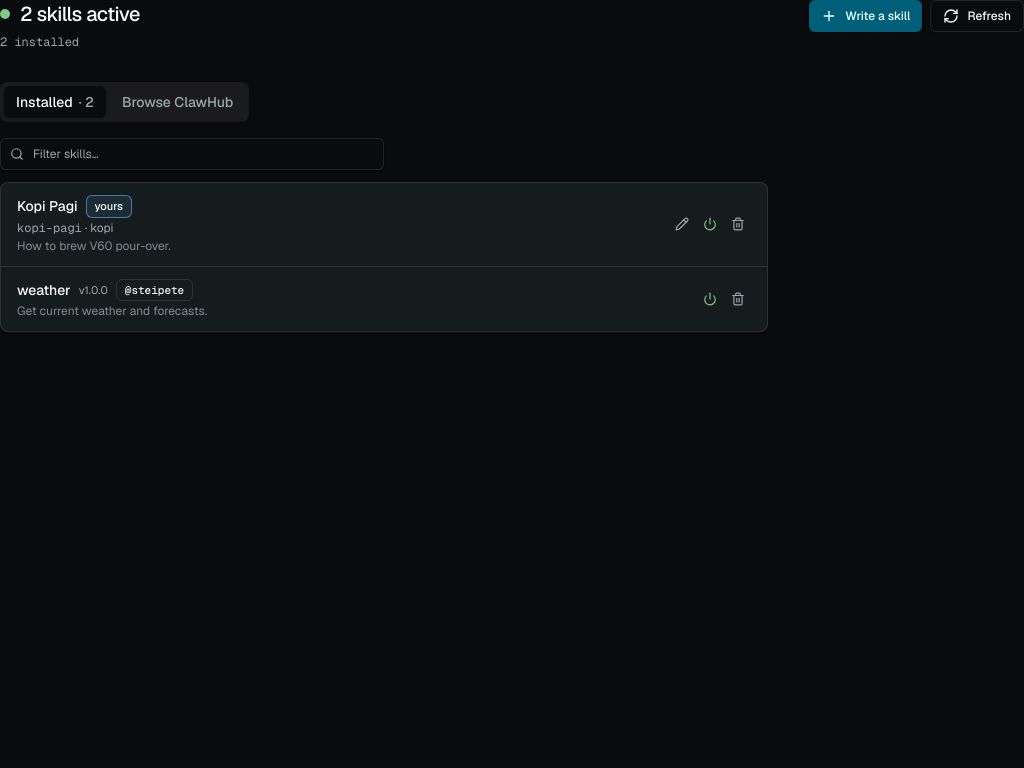
SkillsPanel: removing a skill › names the ClawHub reference an uninstalled skill can be fetched from again
The image size is (1024, 768).
Expected: the text "weather" is shown, [17, 280, 71, 300]
Click the button named "Uninstall weather" at (738, 299), box [725, 286, 751, 312]
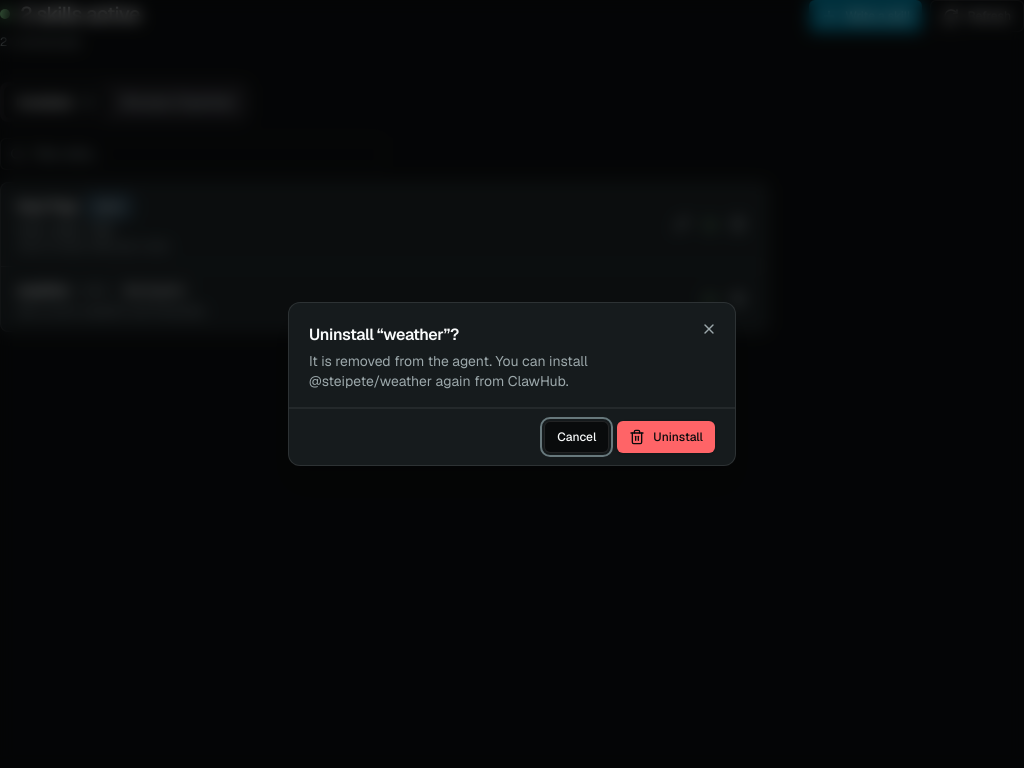
Expected: the heading "Uninstall “weather”?" is shown, [309, 324, 459, 345]
Expected: the text "It is removed from the agent. You can install @steipete/weather again from ClawHub." is shown, [309, 352, 588, 390]
Expected: the button "Uninstall" is shown, [617, 421, 715, 453]
